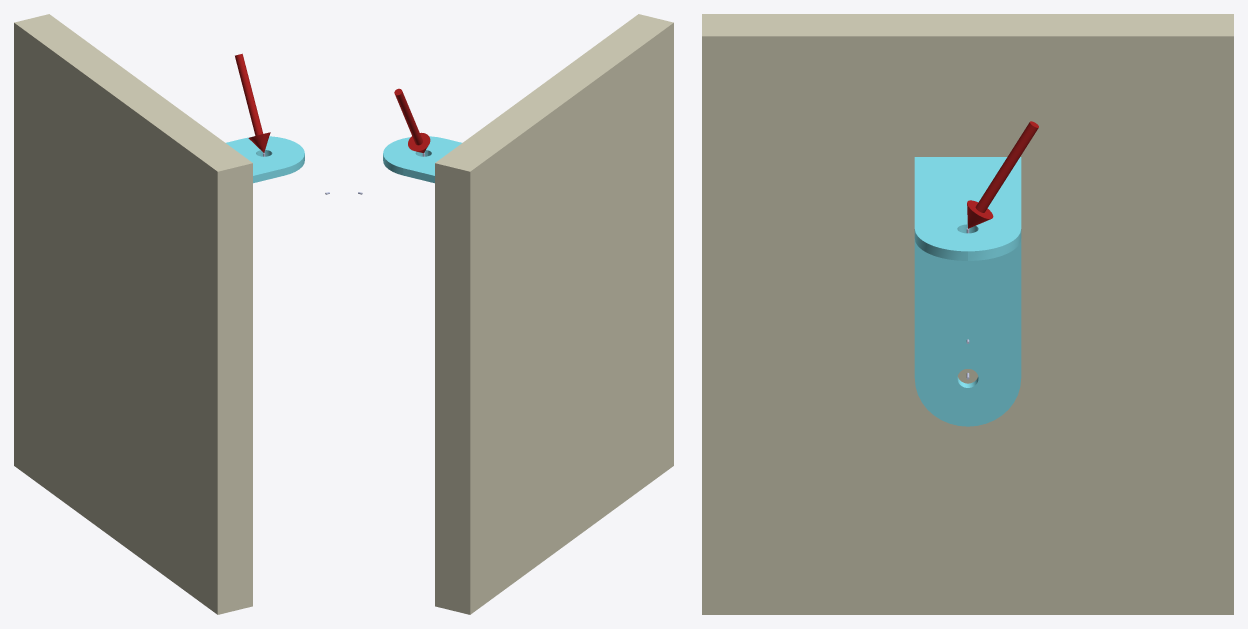
3 renders of one model, left to right at view 1: azimuth 30°, elevation 25°; view 2: azimuth 150°, elevation 25°; view 3: azimuth 270°, elevation 25°, orthographic. The views are drawn at different scales.
Parts seen in each view (by area): view 1: Part 1, Part 3, Part 6; view 2: Part 1, Part 3, Part 6; view 3: Part 1, Part 3, Part 6.
Boxes of the visible parts, x1,y1,x2,y2 form: Part 1: (14,14,252,614); Part 3: (226,136,304,183); Part 6: (235,53,270,152); Part 1: (435,14,673,614); Part 3: (383,136,461,183); Part 6: (394,88,430,153); Part 1: (702,14,1233,614); Part 3: (914,157,1021,426); Part 6: (967,121,1038,228).
Size of the model in its own units: 0.0605 by 0.12 by 0.1.
